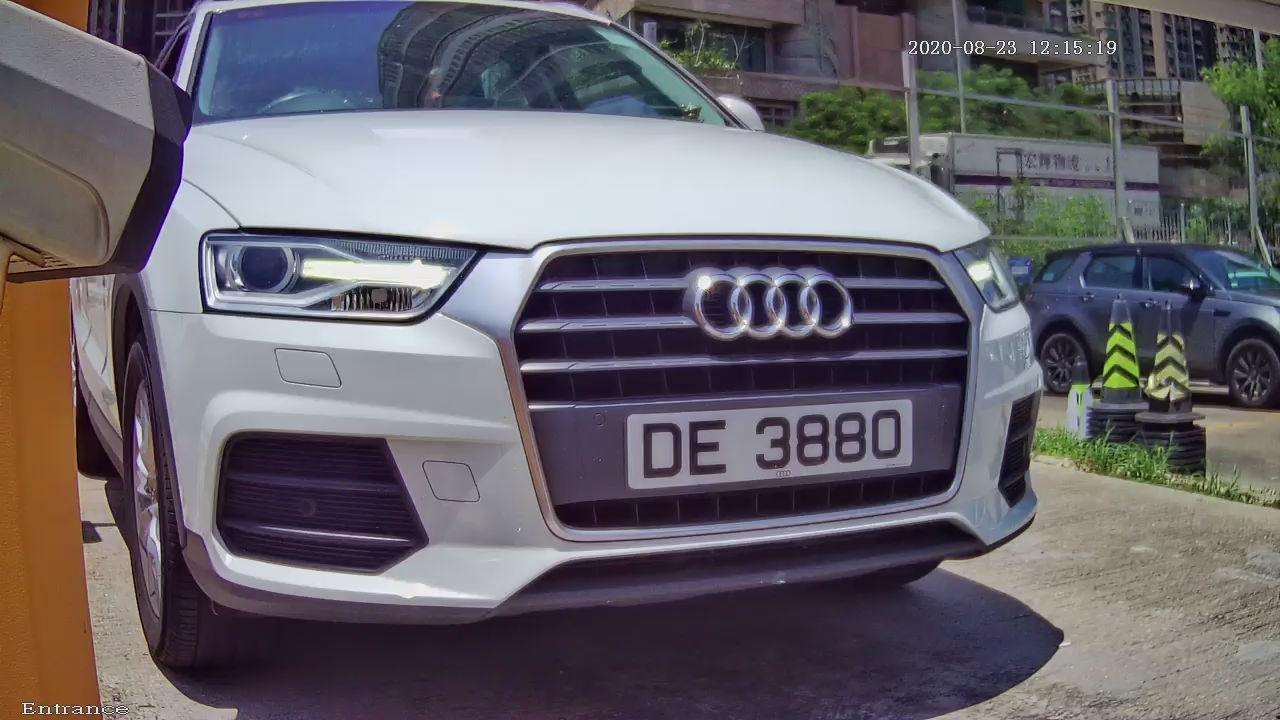License Plate: (606, 393, 932, 502)
